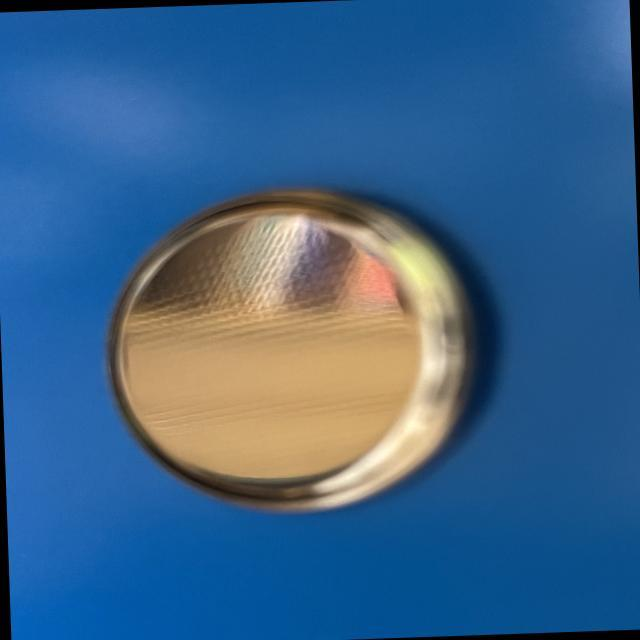COIN: (100, 180, 488, 524)
